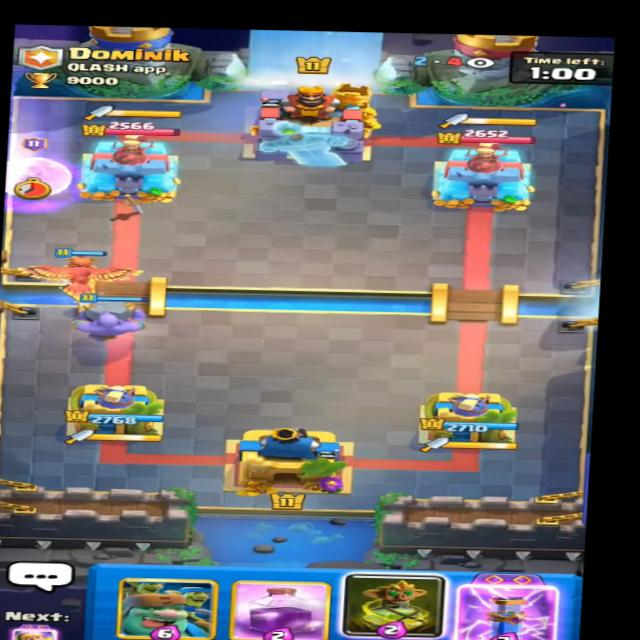evo-wizard: (0, 138, 77, 203)
